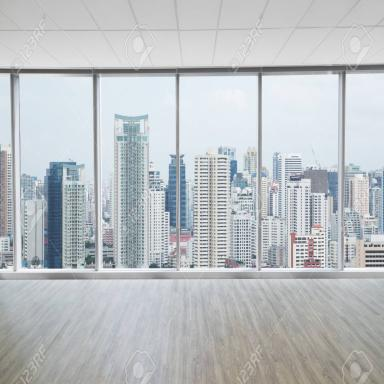glass_panel: (263, 74, 341, 266), (181, 77, 258, 267), (100, 77, 176, 268), (17, 76, 92, 268), (345, 74, 384, 267), (0, 76, 12, 268)
